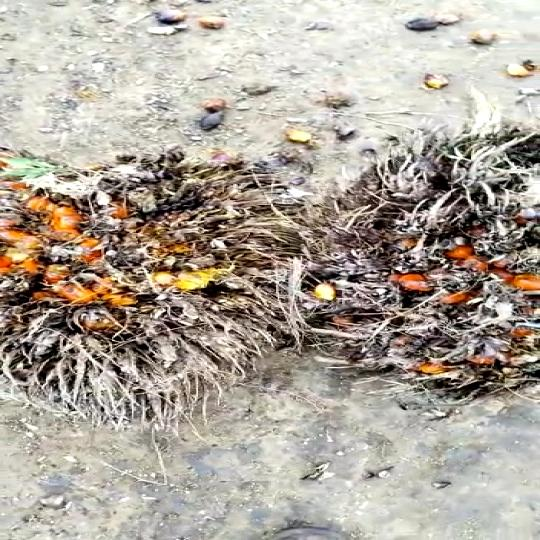terlalu masak: (0, 155, 338, 421), (316, 136, 540, 392)
